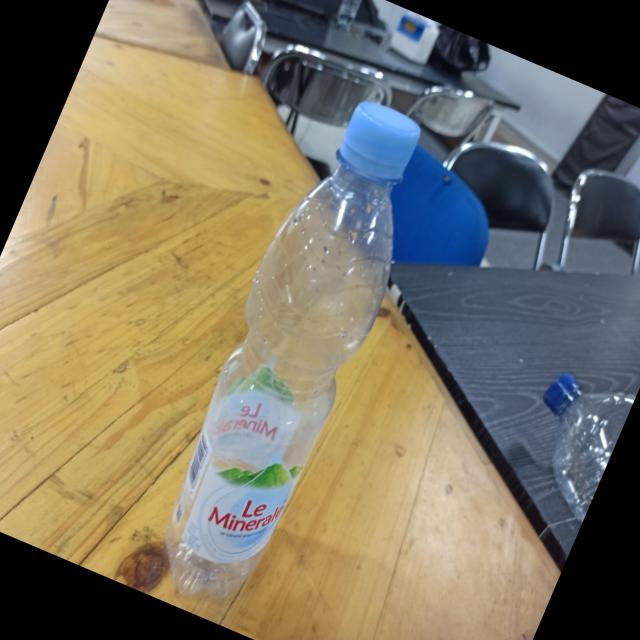BotolPlastik: (127, 82, 455, 621)
